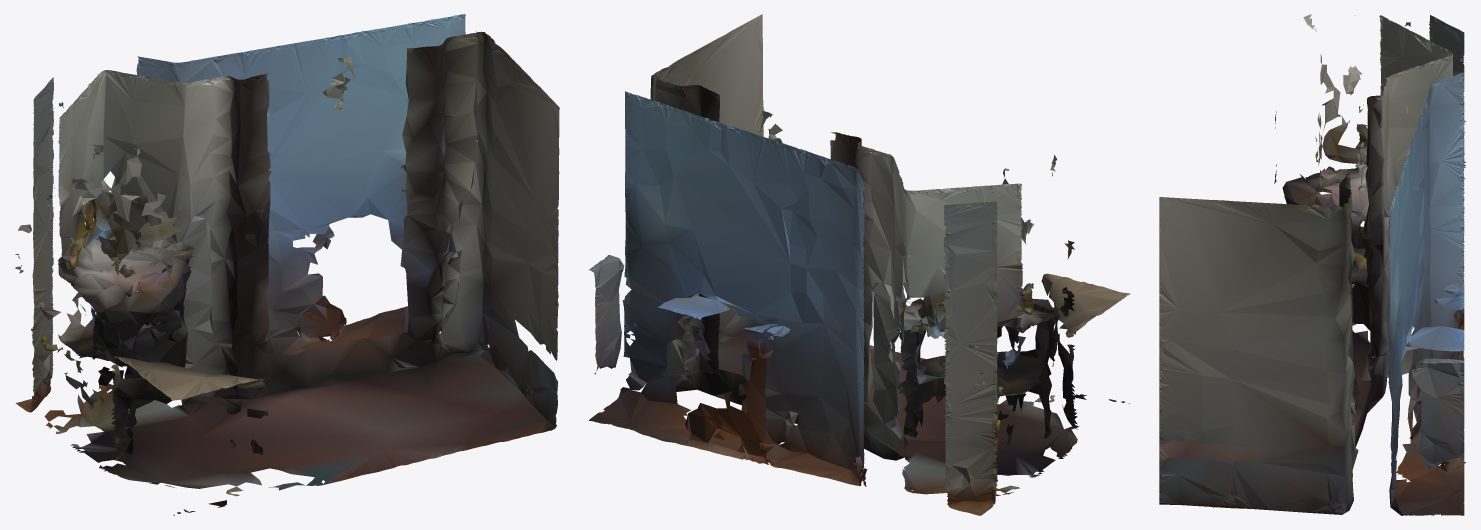
Rendered from coarse.glb.
3 views of the same model, side by side, from view 1: azimuth 30°, elevation 25°; view 2: azimuth 150°, elevation 25°; view 3: azimuth 270°, elevation 25° (orthographic). The views are drawn at different scales.
Bounding box in the file's own units: 1.91 × 1.43 × 1.27.
